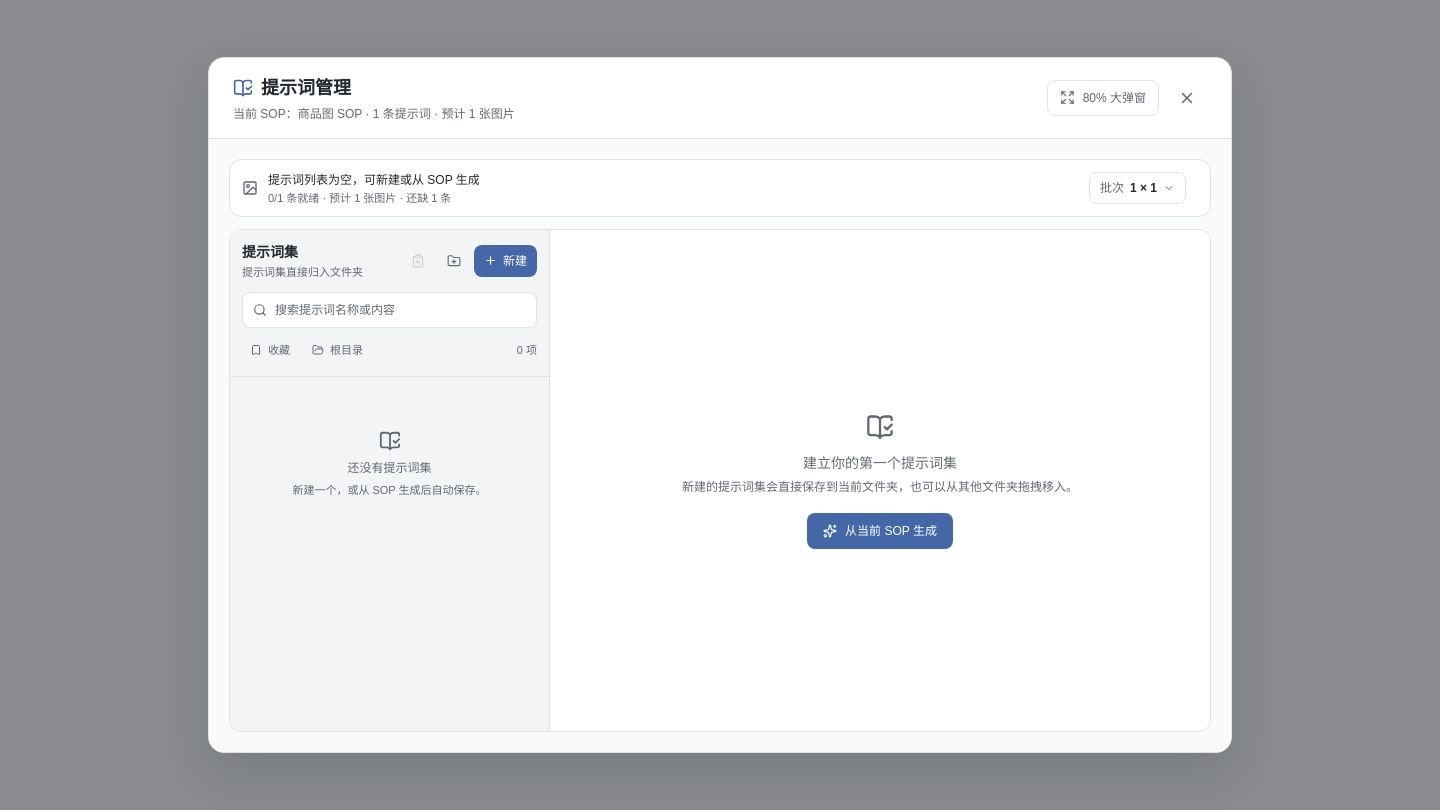
GallerySopBatchModal background generation › offers an explicit prompt-generation entry inside the SOP workspace
Click the button "从当前 SOP 生成" at (880, 530), box [807,512,953,548]
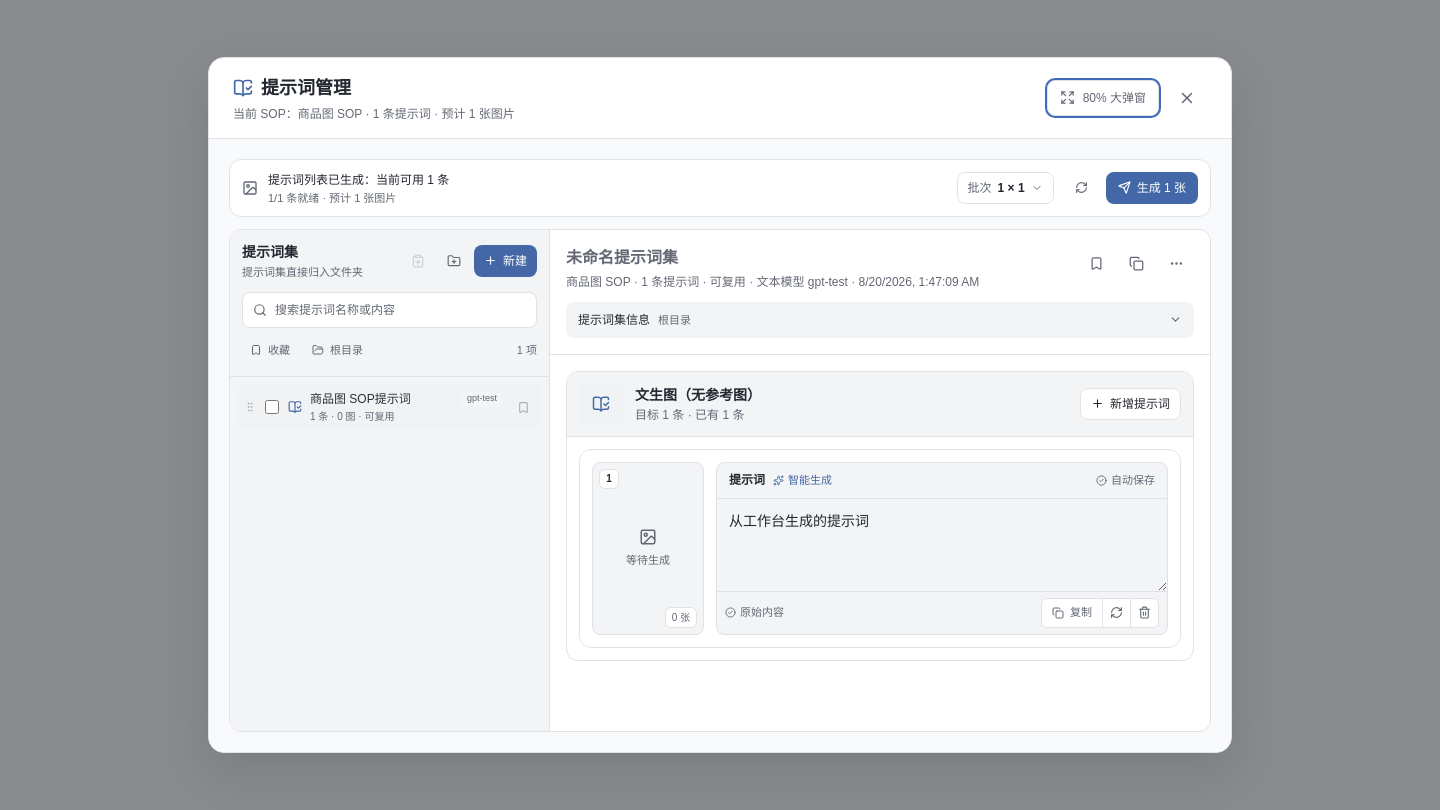
Expected: the text box named "第 1 条提示词" holds "从工作台生成的提示词", [717,499,1167,591]
